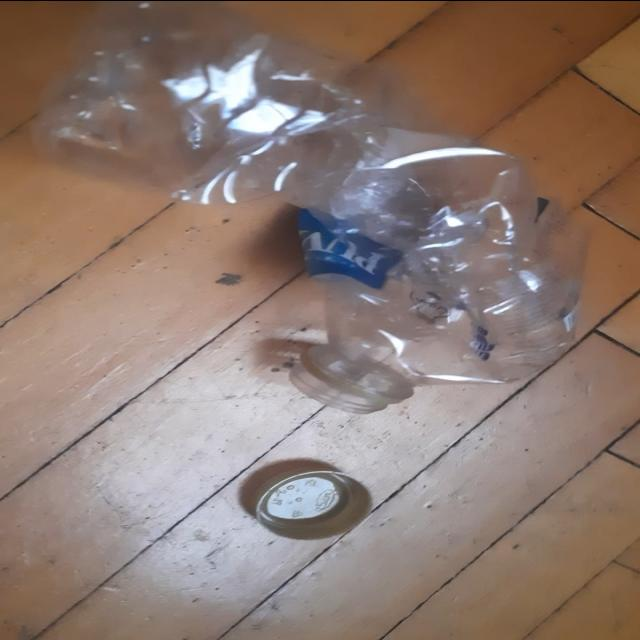Plastic: (29, 3, 583, 413)
